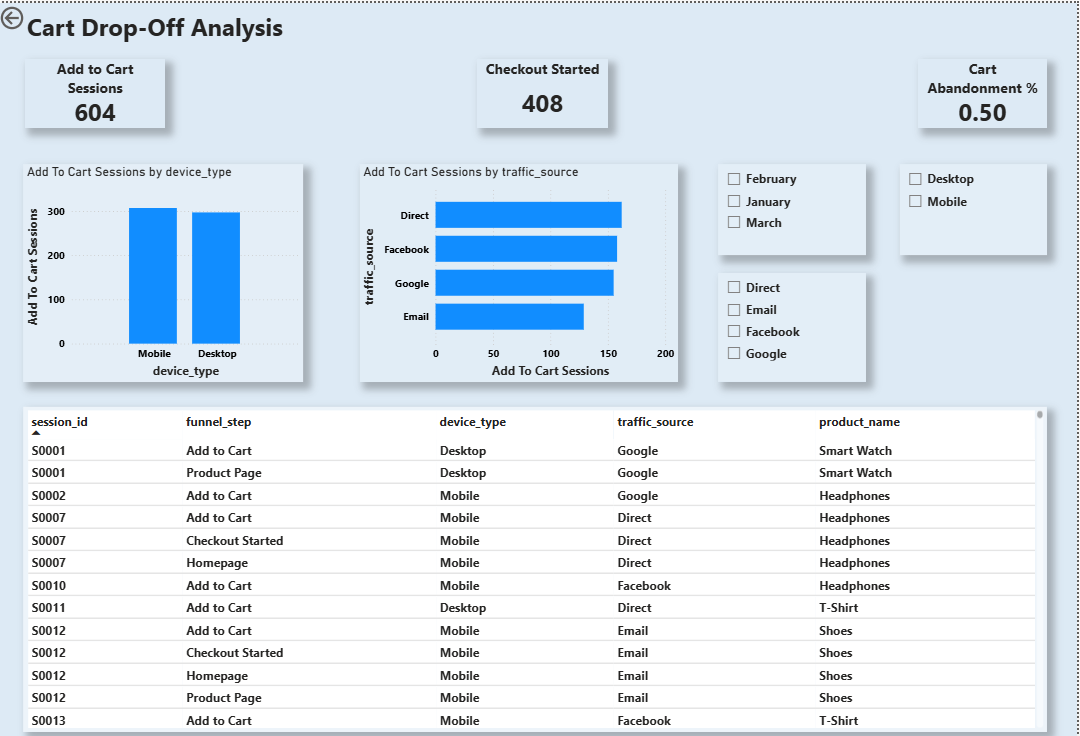

This screenshot's page, from the dashboard's own definition file:
{"tool":"powerbi","page":{"name":"Cart Drop-Off Analysis","canvas":[1440,2560],"ordinal":2},"visuals":[{"type":"actionButton","box":[0,0,100,40],"z":0},{"type":"tableEx","fields":{"Values":["WebEvents.session_id","WebEvents.funnel_step","Devices.device_type","TrafficSource.traffic_source","Products.product_name"]},"box":[35,538.3,1365,433.3],"z":1000},{"type":"textbox","box":[35,5,378.3,70],"z":2000},{"type":"card","title":"Add to Cart Sessions","fields":{"Values":["_Measures.Add To Cart Sessions"]},"box":[36.7,75,188.3,91.7],"z":3000},{"type":"card","title":"Checkout Started","fields":{"Values":["_Measures.Checkout Started Sessions"]},"box":[639.2,75,175,91.7],"z":4000},{"type":"card","title":"Cart Abandonment %","fields":{"Values":["_Measures.Cart Abandonment Rate %"]},"box":[1228.3,75,171.7,91.7],"z":5000},{"type":"clusteredColumnChart","fields":{"Y":["_Measures.Add To Cart Sessions"],"Category":["Devices.device_type"]},"box":[35,215,373.3,290],"z":6000},{"type":"clusteredBarChart","fields":{"Y":["_Measures.Add To Cart Sessions"],"Category":["TrafficSource.traffic_source"]},"box":[483.3,215,425,290],"z":7000},{"type":"slicer","fields":{"Values":["Devices.device_type"]},"box":[1203.3,215,196.7,121.7],"z":8000},{"type":"slicer","fields":{"Values":["TrafficSource.traffic_source"]},"box":[961.7,360,196.7,145],"z":9000},{"type":"slicer","fields":{"Values":["Date.month_name"]},"box":[961.7,215,196.7,121.7],"z":10000}]}

Visuals, with their boxes on the page's 1440x2560 design canvas (x1, y1, x2, y2). These are canvas units, not pixel positions in the 1080x736 screenshot, which may show the page scaled, cropped or inside an application window:
actionButton: [0, 0, 100, 40]
tableEx - WebEvents.session_id x WebEvents.funnel_step: [35, 538, 1400, 972]
textbox: [35, 5, 413, 75]
"Add to Cart Sessions" card: [37, 75, 225, 167]
"Checkout Started" card: [639, 75, 814, 167]
"Cart Abandonment %" card: [1228, 75, 1400, 167]
clusteredColumnChart - _Measures.Add To Cart Sessions x Devices.device_type: [35, 215, 408, 505]
clusteredBarChart - _Measures.Add To Cart Sessions x TrafficSource.traffic_source: [483, 215, 908, 505]
slicer - Devices.device_type: [1203, 215, 1400, 337]
slicer - TrafficSource.traffic_source: [962, 360, 1158, 505]
slicer - Date.month_name: [962, 215, 1158, 337]
